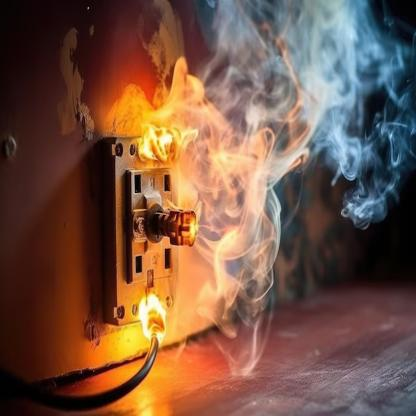fire: (113, 94, 173, 169), (136, 285, 169, 365)
smoke: (160, 0, 416, 371)
